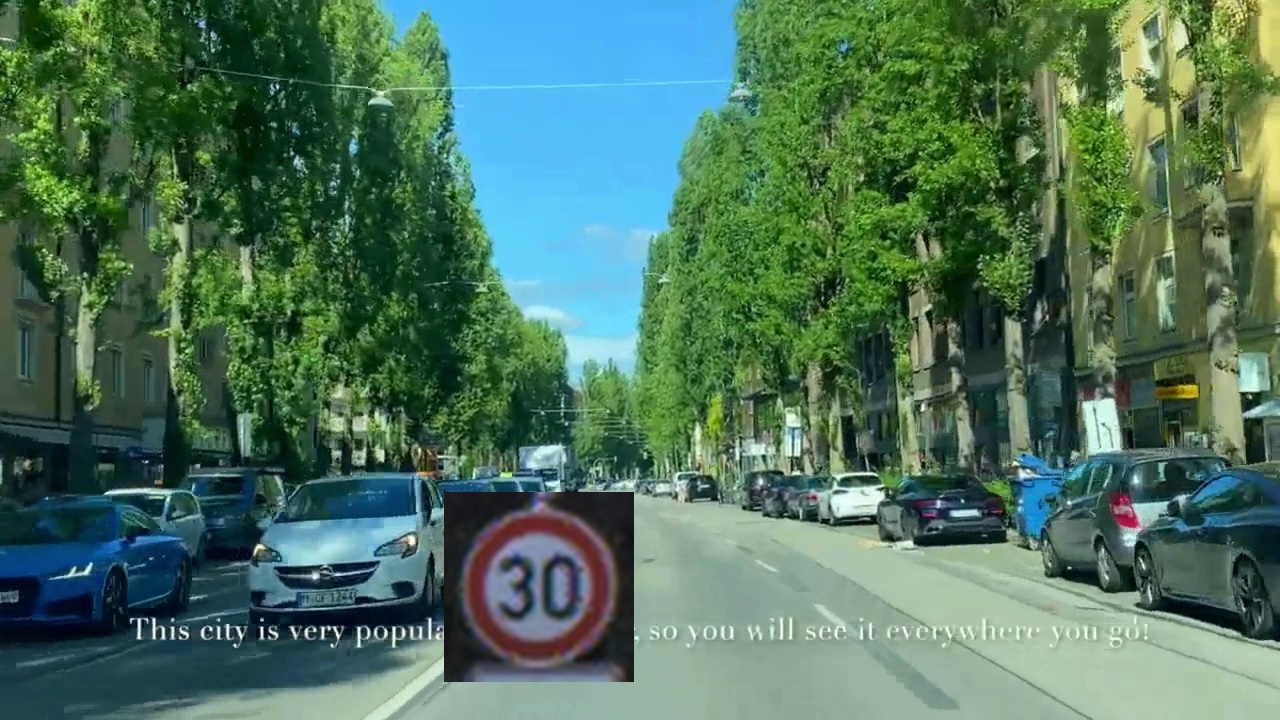Speed 30: (444, 492, 634, 682)
